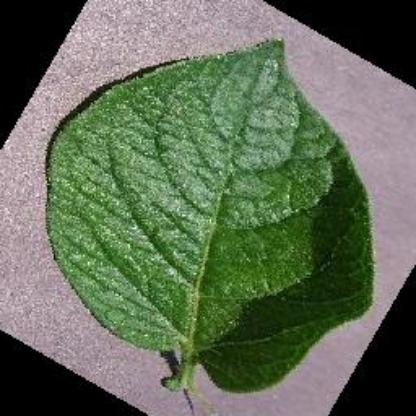Healthy-plant: (31, 26, 396, 407)
